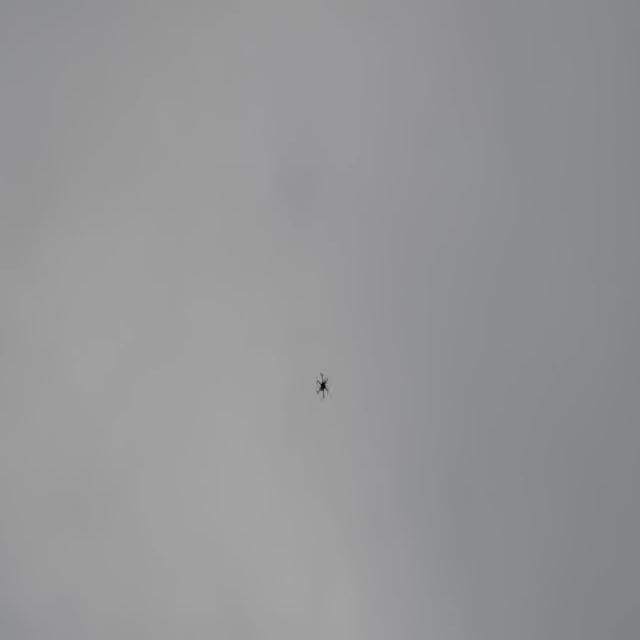Drone_FW: (310, 370, 338, 399)
